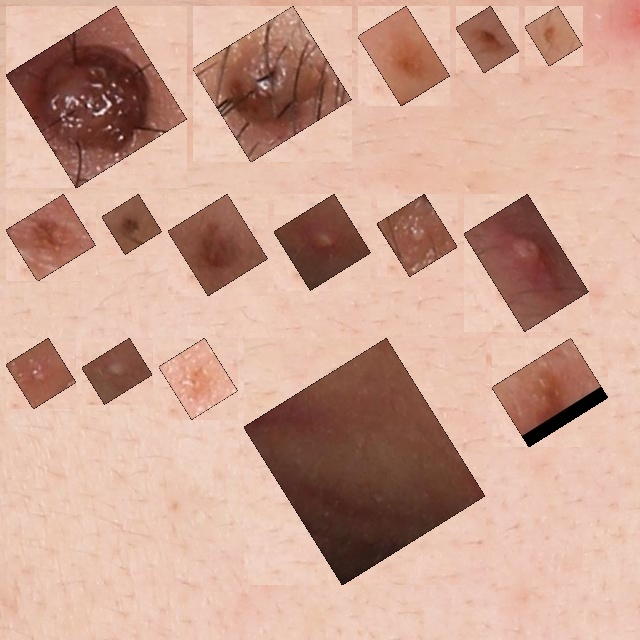hypertrophic_scar: (255, 349, 474, 574)
nevus: (17, 17, 176, 177), (204, 17, 340, 151), (503, 349, 597, 436), (179, 205, 257, 285), (369, 17, 439, 95), (17, 205, 84, 270), (170, 349, 227, 408), (467, 17, 508, 62), (113, 205, 151, 243), (536, 17, 571, 55)
pustule: (475, 205, 578, 320), (285, 205, 360, 279), (388, 205, 446, 265), (17, 349, 65, 398), (93, 349, 141, 393)
